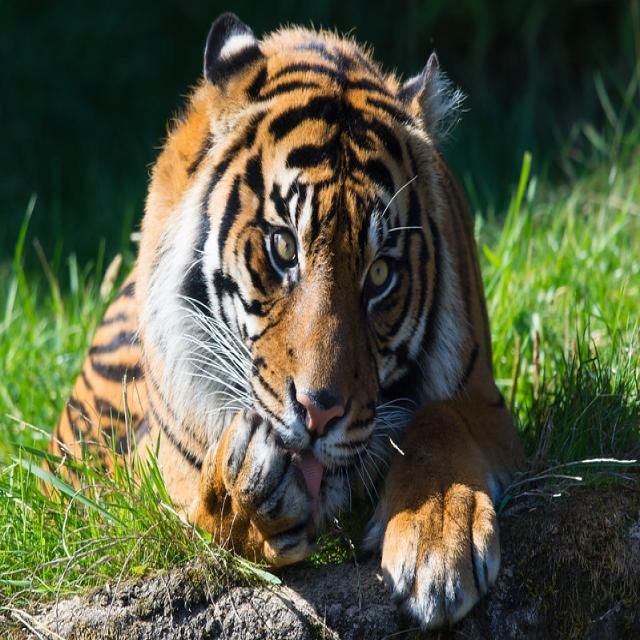Tiger: (41, 18, 511, 627)
